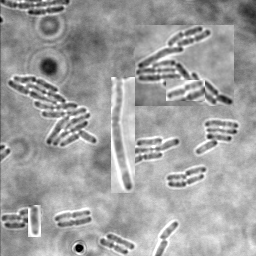Dividing: (111, 77, 135, 193), (166, 80, 205, 101), (167, 175, 204, 189), (99, 238, 128, 255), (54, 209, 90, 222), (28, 205, 41, 237), (56, 217, 92, 228), (27, 7, 64, 17)
Microcolony: (135, 25, 234, 106), (7, 76, 98, 147), (195, 120, 238, 155), (135, 137, 180, 168), (1, 208, 42, 229)
Rod: (106, 233, 135, 251), (157, 222, 178, 240), (184, 167, 206, 177), (166, 174, 187, 183)
